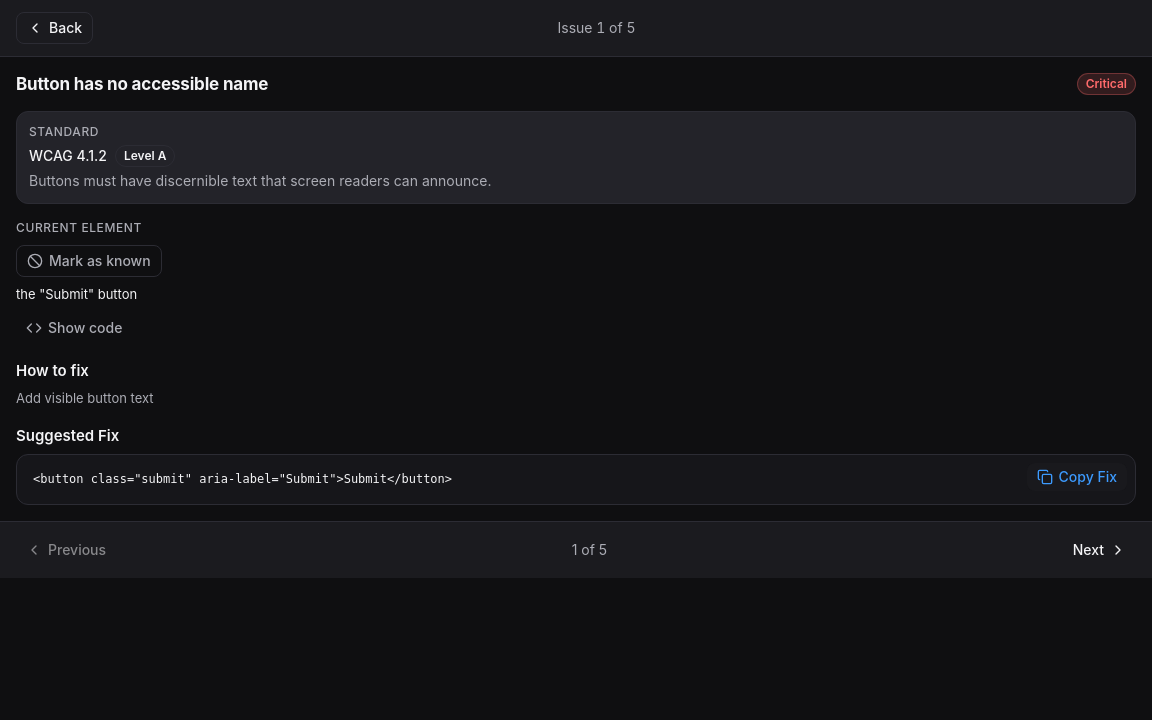
Scenario: IssueDetail › opens the ignore modal when the ignore action is clicked
The width and height of the screenshot is (1152, 720).
Click the button "Mark as known" at (89, 261), box x1=16 y1=245 x2=162 y2=277
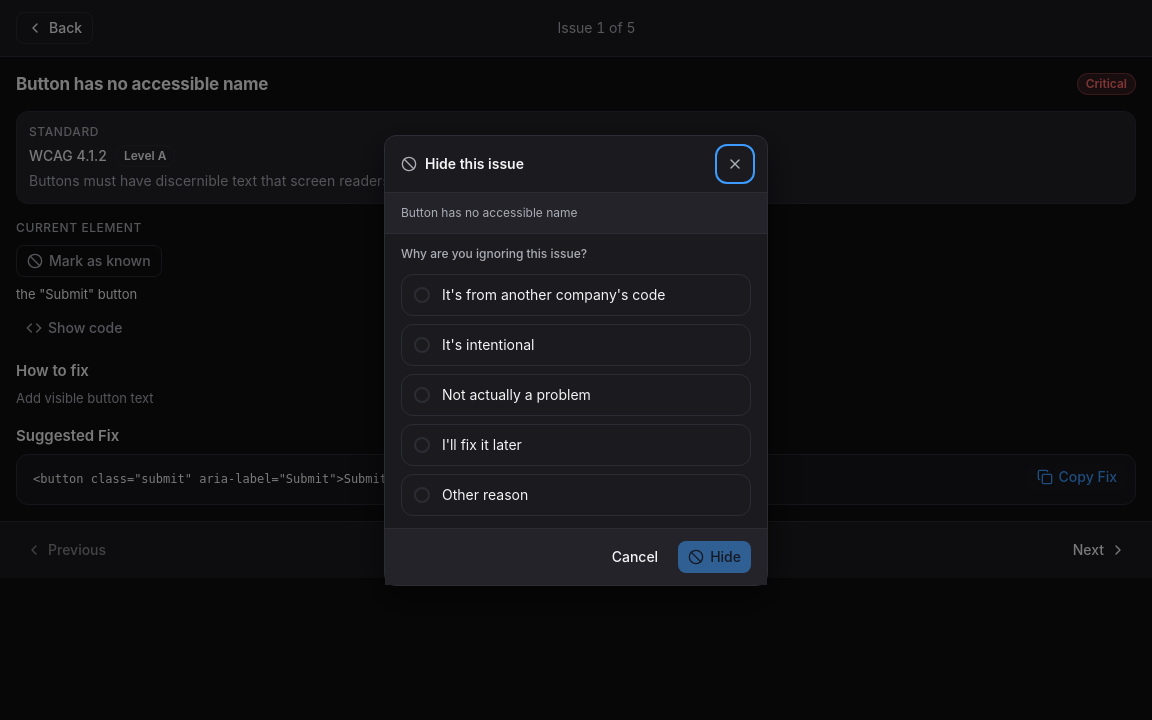
Result: the heading "Hide this issue" is shown at x1=425 y1=153 x2=524 y2=174
